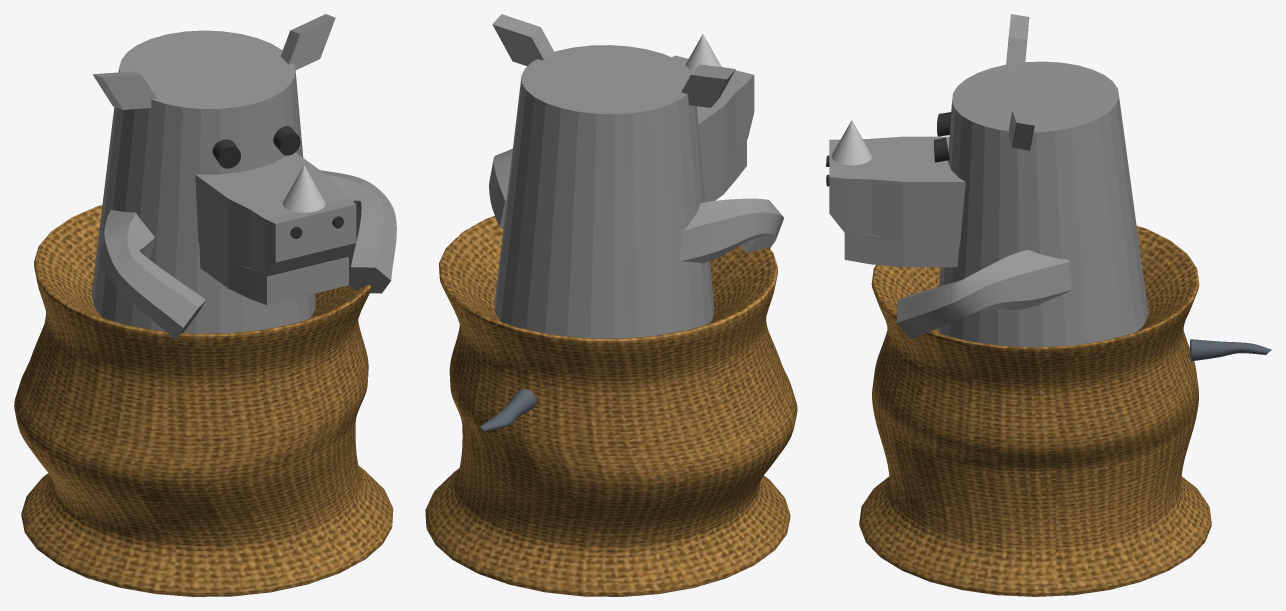
The model's file is Rhino.fbx.
The picture shows the model from 3 angles, left to right: view 1: azimuth 30°, elevation 25°; view 2: azimuth 150°, elevation 25°; view 3: azimuth 270°, elevation 25°; orthographic projection. The views are drawn at different scales.
Parts seen in each view (by area): view 1: rhino_1; view 2: rhino_1; view 3: rhino_1.
Part boxes in pixels (x1,y1,x2,y2): rhino_1: (14, 14, 396, 596); rhino_1: (425, 14, 797, 596); rhino_1: (826, 14, 1271, 596).
Size of the model in its own units: 770 by 1104 by 948.
1 material, 1 textured.
